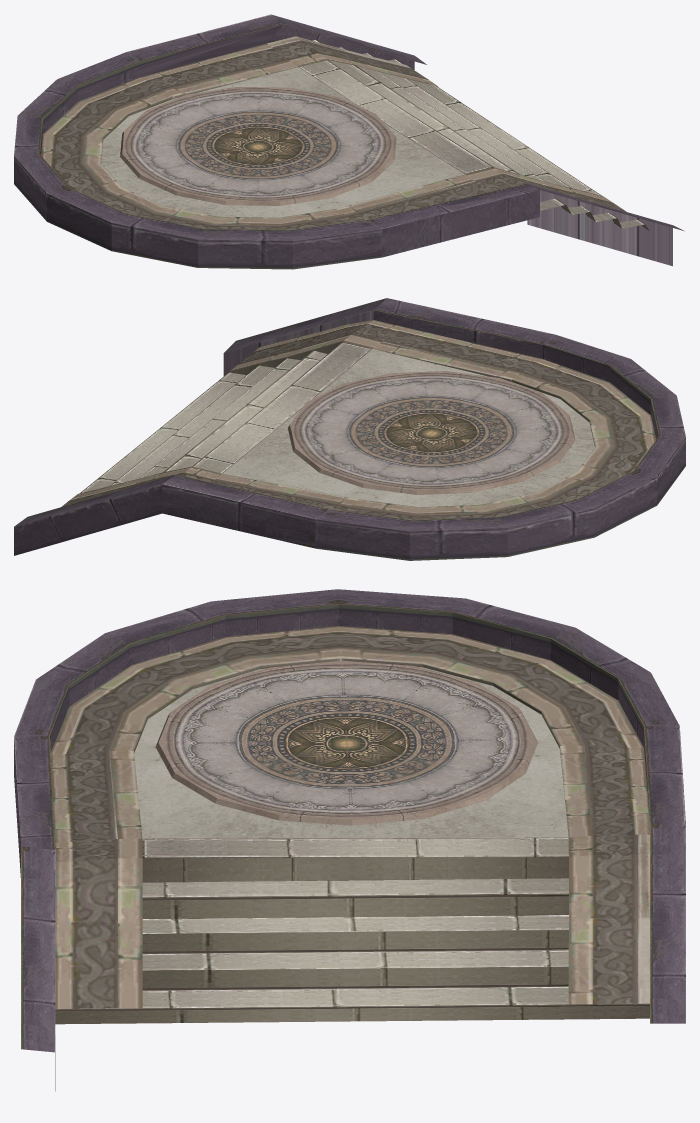
File: s_battle_05_floor4.FBX
The picture shows the model from 3 angles, top to bottom: view 1: azimuth 30°, elevation 25°; view 2: azimuth 150°, elevation 25°; view 3: azimuth 270°, elevation 25°; orthographic projection. The views are drawn at different scales.
Parts seen in each view (by area): view 1: floordi, foorxiao, louti7; view 2: floordi, foorxiao, louti7; view 3: floordi, louti7, foorxiao.
Boxes of the visible parts, box(x1,y1,x2,y2) form: floordi: box(14, 14, 684, 269); foorxiao: box(120, 87, 396, 205); louti7: box(312, 39, 649, 230); floordi: box(14, 298, 685, 560); foorxiao: box(288, 371, 575, 494); louti7: box(80, 350, 327, 493); floordi: box(14, 589, 685, 1091); louti7: box(55, 878, 649, 1024); foorxiao: box(155, 660, 538, 825).
Size of the model in its own units: 16.25 by 3.71 by 13.22.
